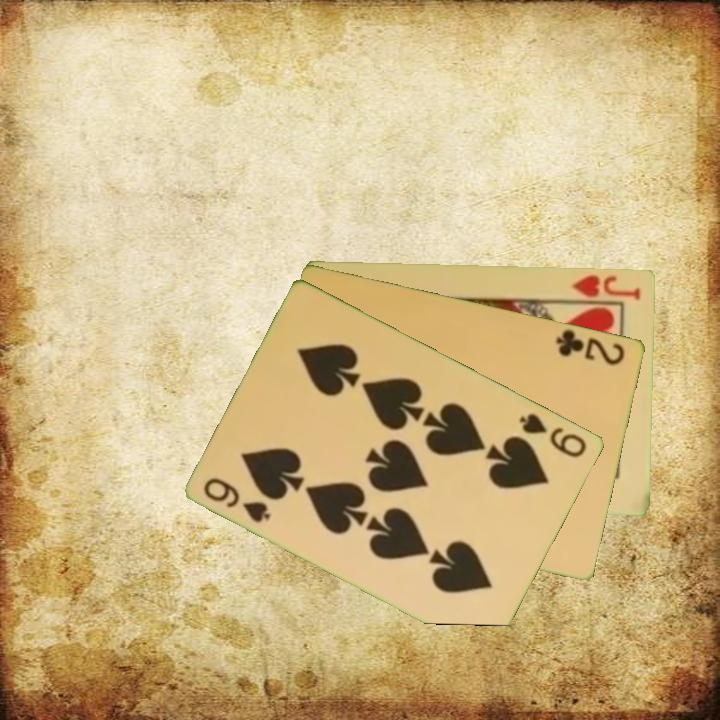2c: (553, 325, 628, 368)
9s: (200, 473, 275, 526), (516, 409, 590, 460)
Jh: (568, 271, 644, 302)
